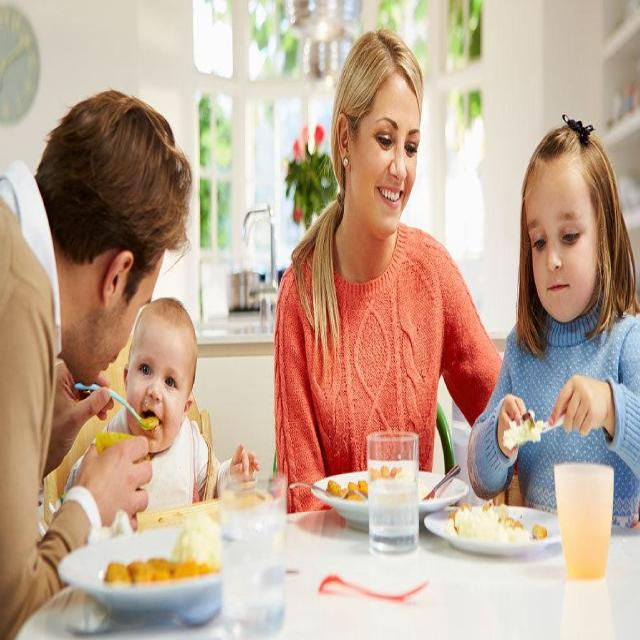child: (462, 115, 638, 508), (56, 285, 257, 521)
